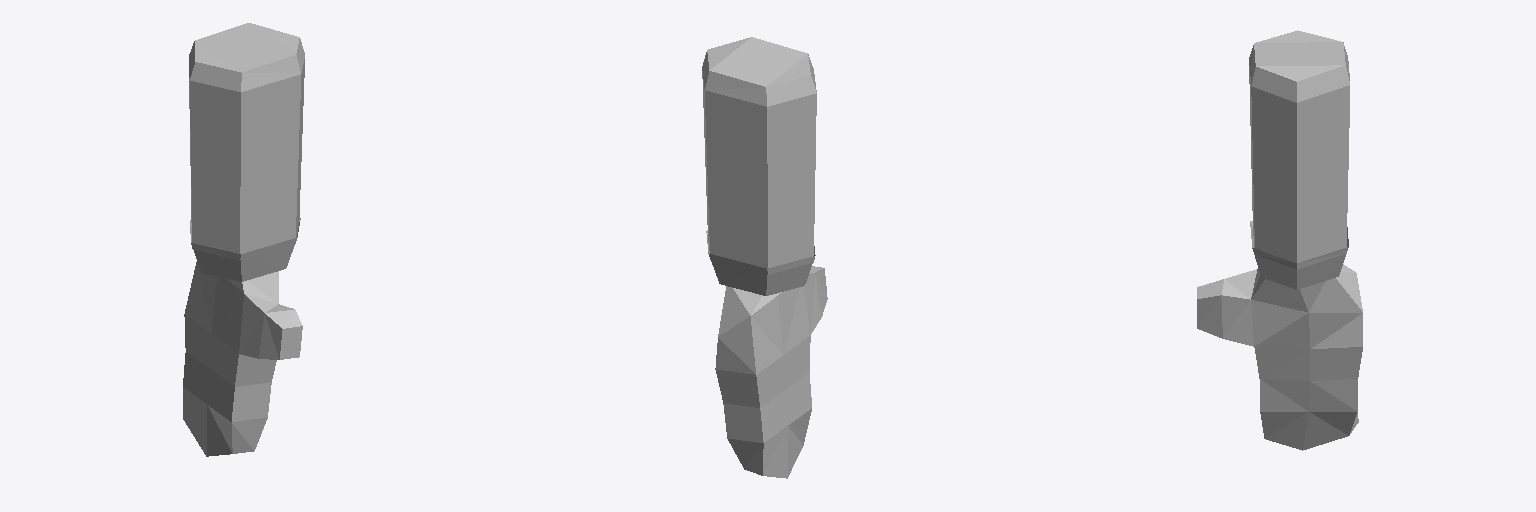
File: astronauta_reloded_leftarmbot.obj
The picture shows the model from 3 angles: view 1: azimuth 30°, elevation 25°; view 2: azimuth 150°, elevation 25°; view 3: azimuth 270°, elevation 25°; orthographic projection.
Parts seen in each view (by area): view 1: Astronauta_Cubo.002; view 2: Astronauta_Cubo.002; view 3: Astronauta_Cubo.002.
Part boxes in pixels (x1,y1,x2,y2): Astronauta_Cubo.002: (183, 23, 304, 456); Astronauta_Cubo.002: (702, 37, 827, 478); Astronauta_Cubo.002: (1197, 30, 1362, 450).
Bounding box in the file's own units: 0.0917 × 0.3093 × 0.115.